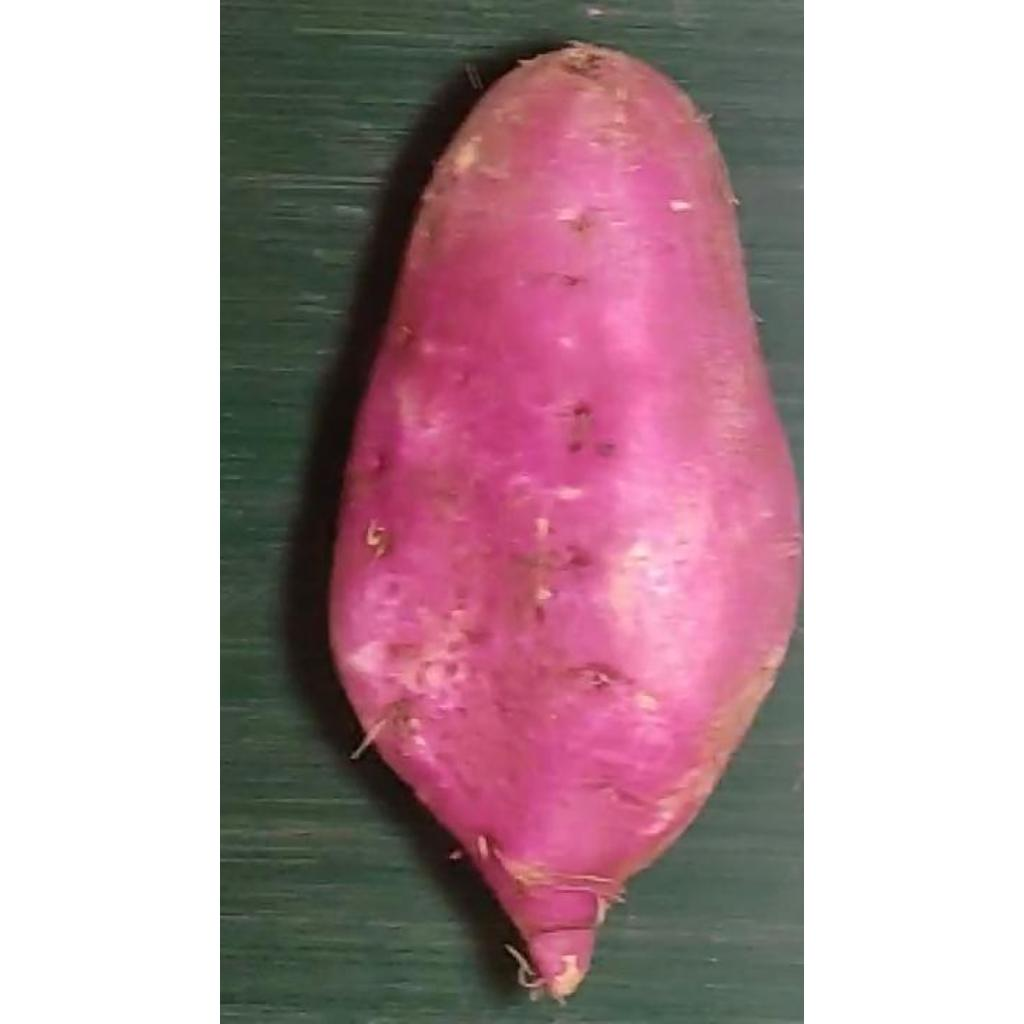Sweet Potato: (328, 46, 802, 990)
